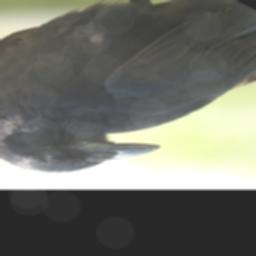Crow: (0, 0, 256, 173)
